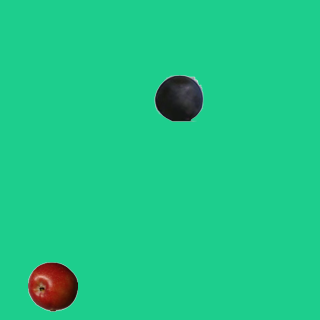Apple Braeburn: (27, 261, 77, 311)
Grape Blue: (153, 72, 203, 122)
